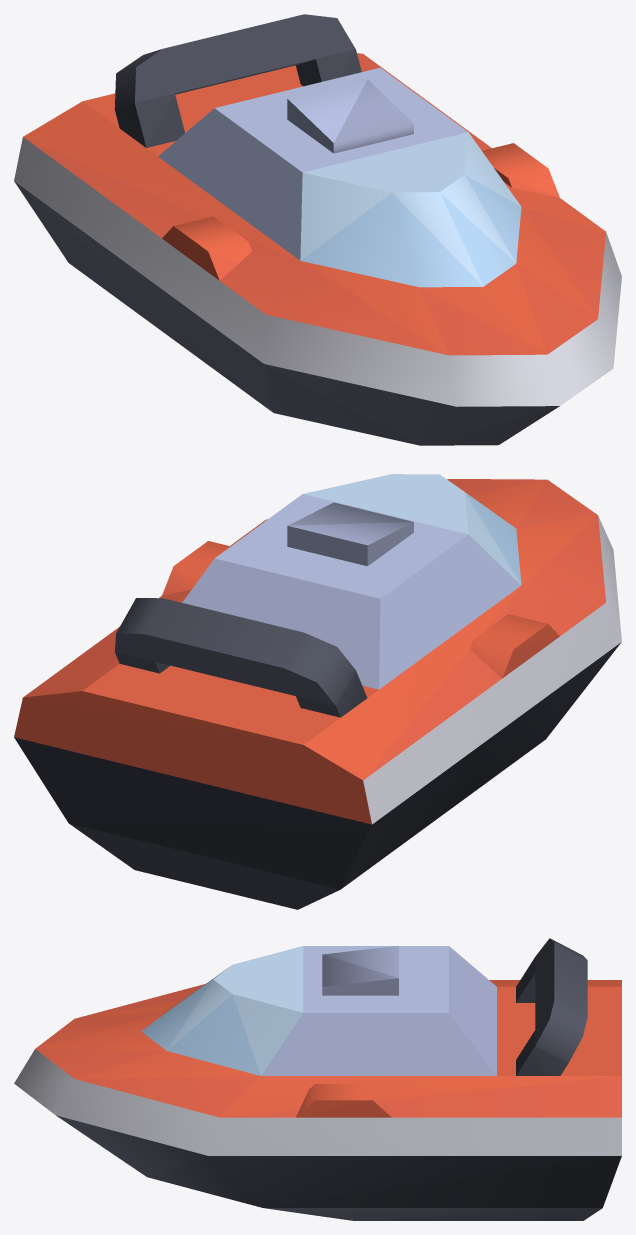
3 views of the same model, one above another, from view 1: azimuth 30°, elevation 25°; view 2: azimuth 150°, elevation 25°; view 3: azimuth 270°, elevation 25° (orthographic). The views are drawn at different scales.
Parts seen in each view (by area): view 1: boat-speed-c; view 2: boat-speed-c; view 3: boat-speed-c.
Boxes of the visible parts, <box> form: boat-speed-c: <box>14,14,621,445</box>; boat-speed-c: <box>14,474,621,909</box>; boat-speed-c: <box>14,938,621,1220</box>.
Size of the model in its own units: 2.95 by 2.15 by 5.24.
